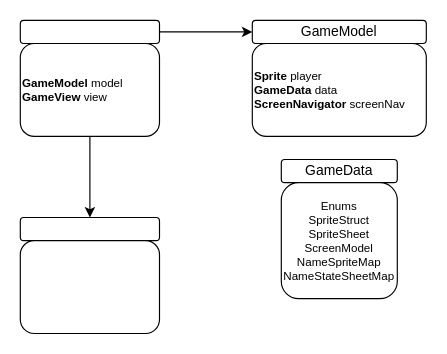
This 447x354 diagram has some shape labels left out. Each missing label, with the centre of its shape:
GameController: [89,31]
GameView: [89,228]
SDL3 Library: [89,287]
